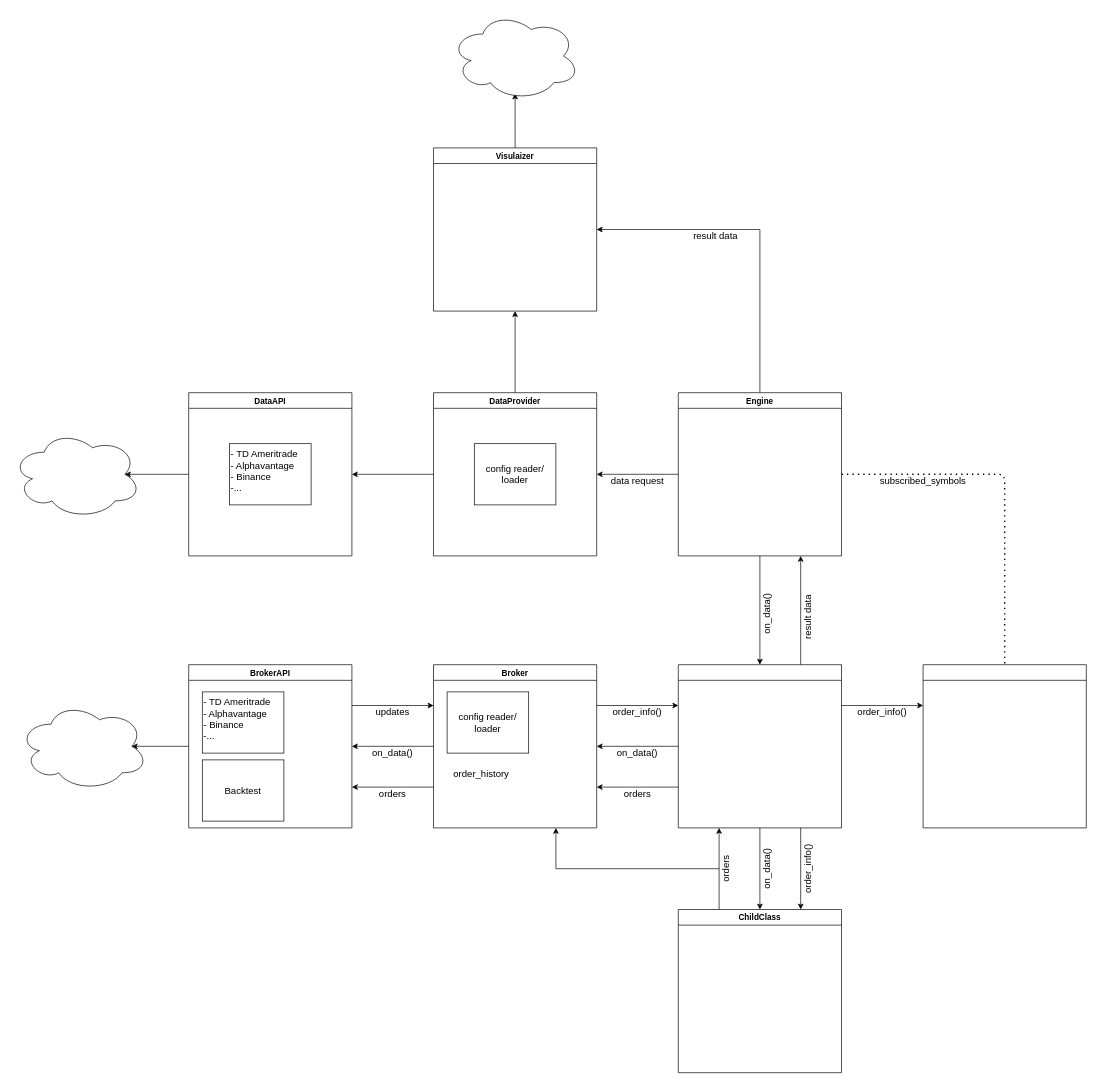
This 1098x1085 diagram has some shape labels left out. Here are the shapes that lost their labels. From the top down, the centre of each, then its label:
point (515, 55): WebServer
point (76, 473): Data Provider
point (83, 745): Exchange
point (760, 746): TradingAlgo
point (1004, 746): Portfolio
